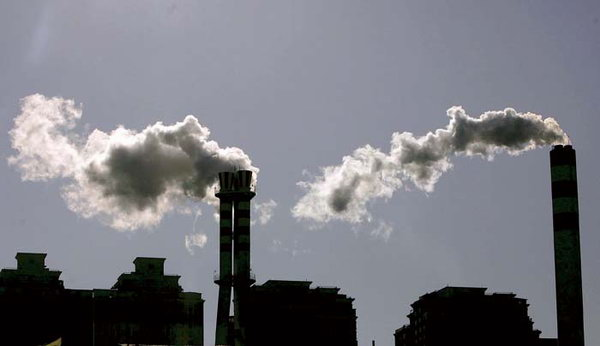dust: (319, 100, 582, 207), (42, 104, 263, 213)
